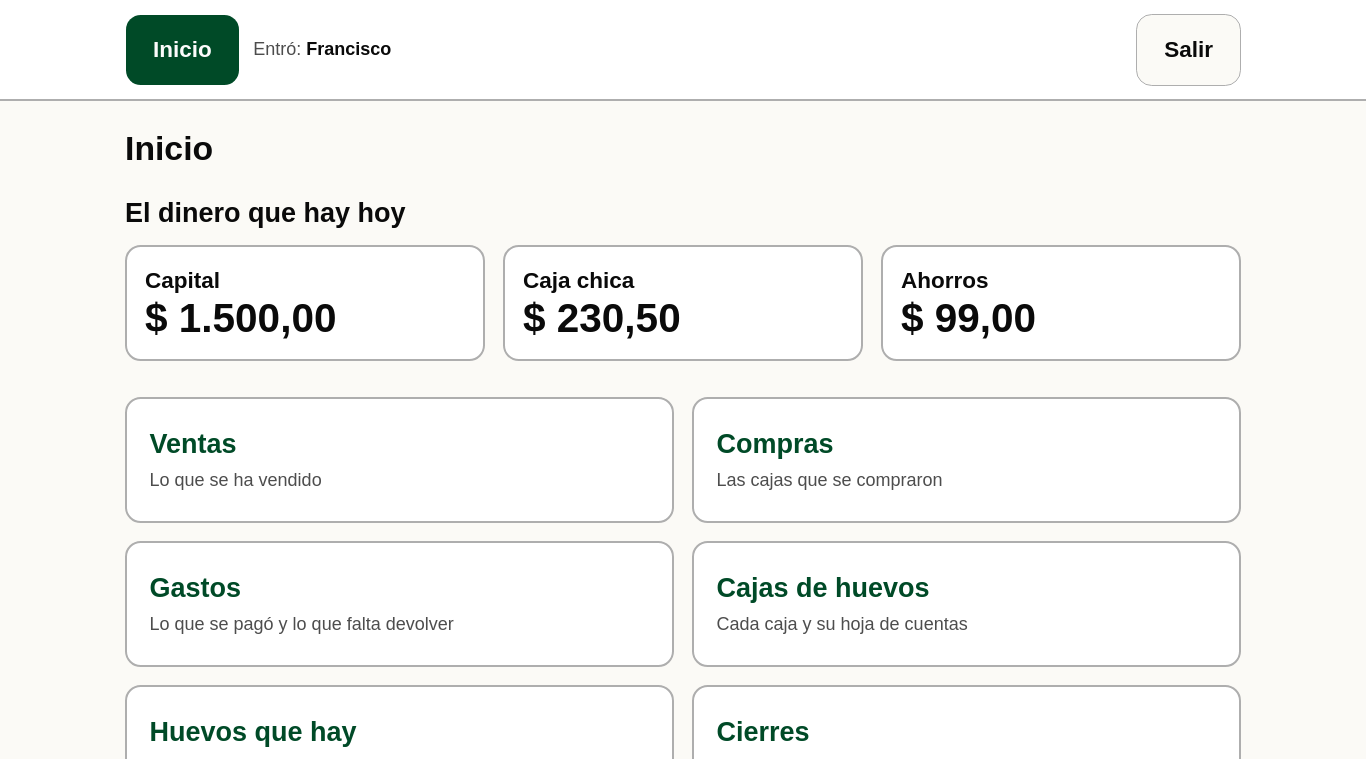
Test: home › logs out and returns to the names
Click the button "Salir" at (1189, 50), box [1136,14,1241,86]
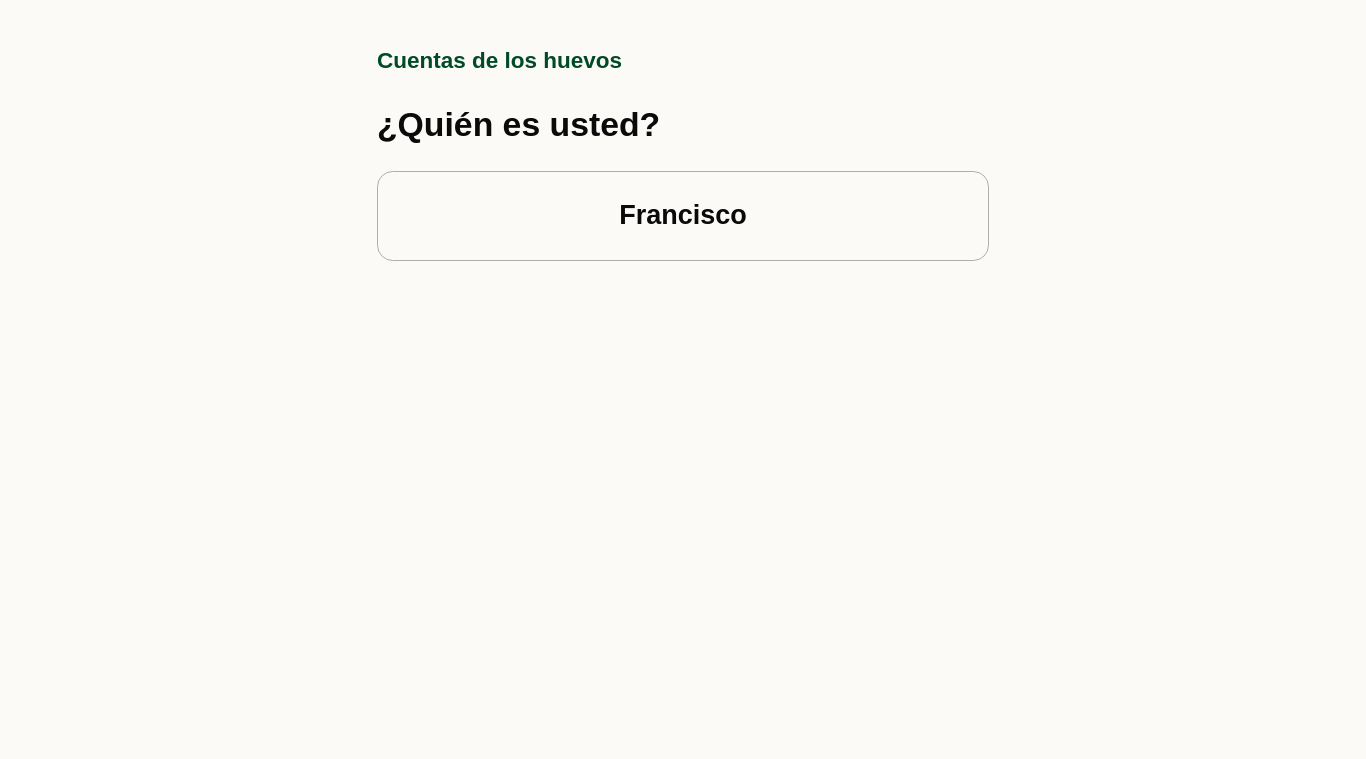
Expected: the heading "¿Quién es usted?" is shown, [377,104,660,142]
